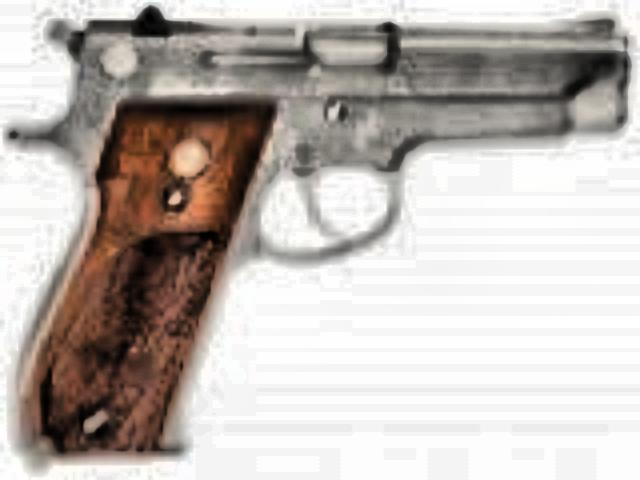pistol: (8, 0, 628, 448)
